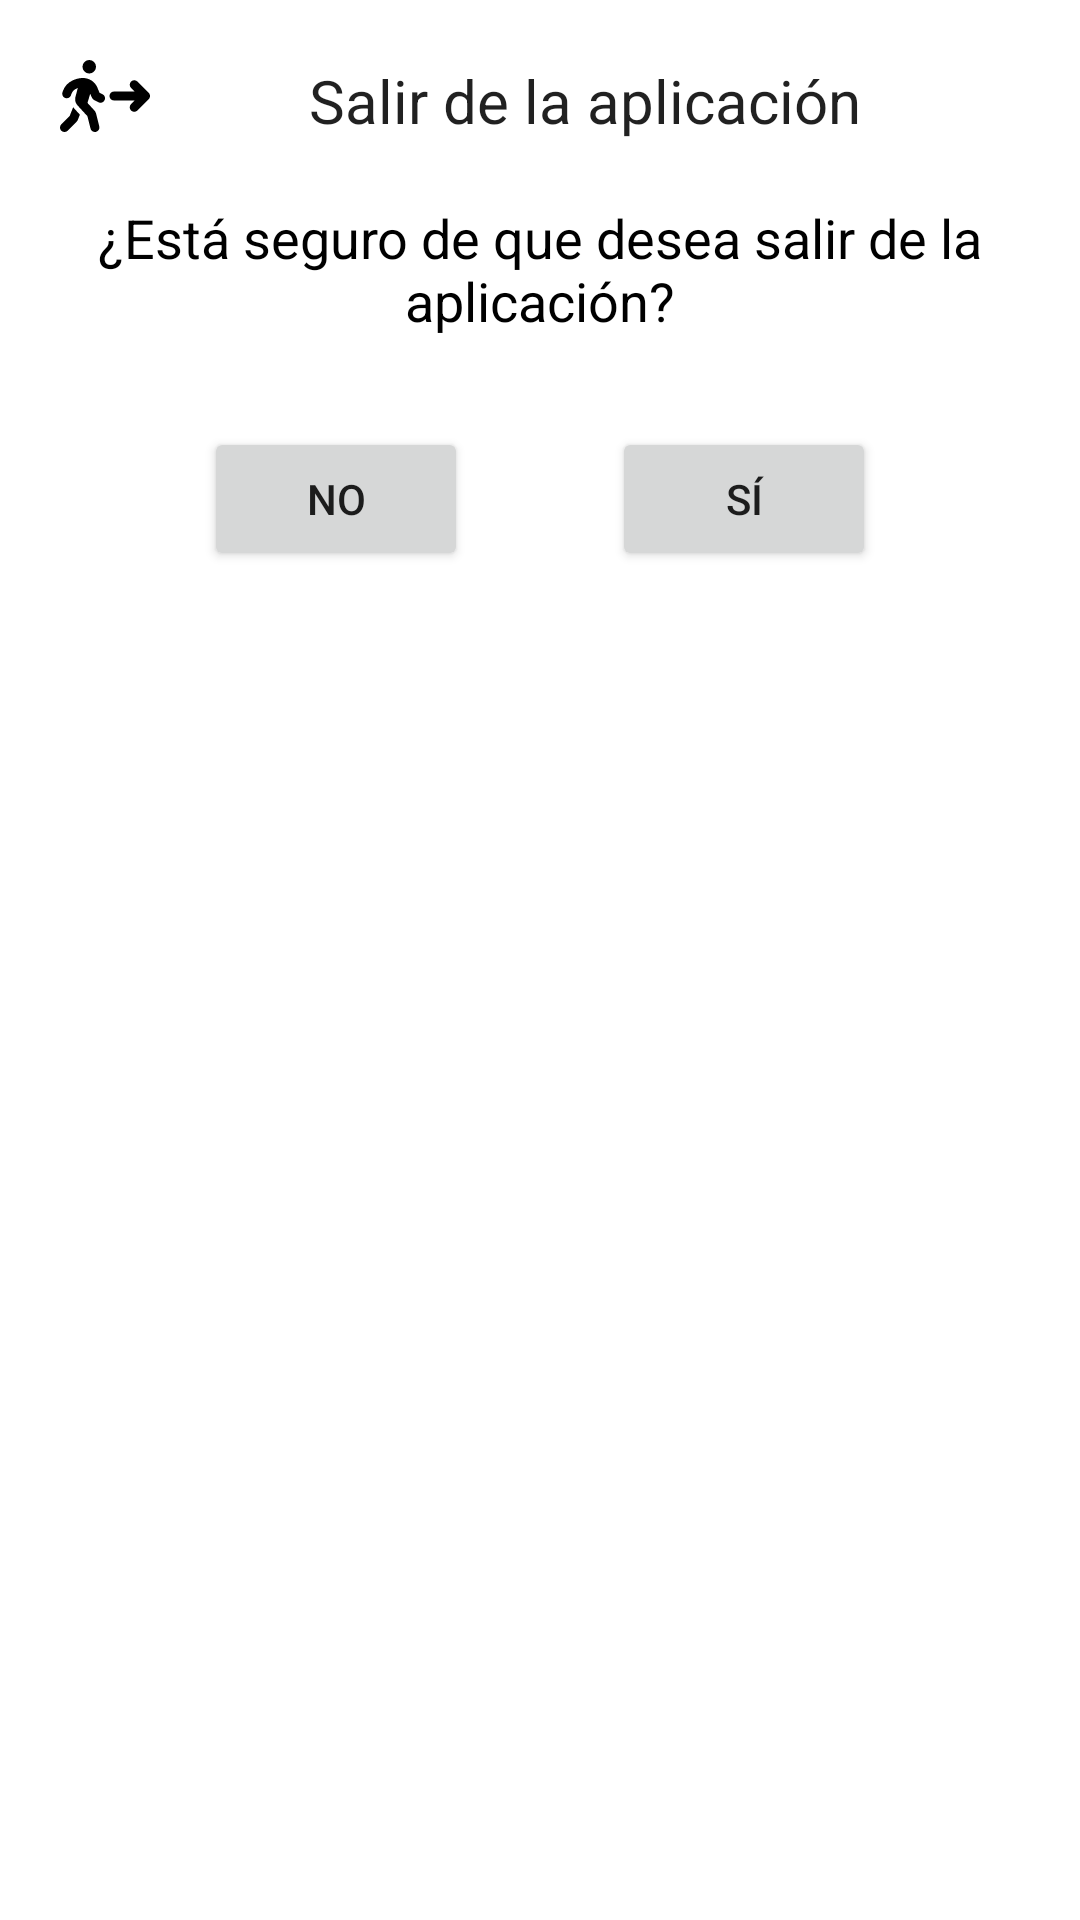

Where to tap for icons on this 1080*1920 app screen, as [x,y]:
salirapp: [105,96]
